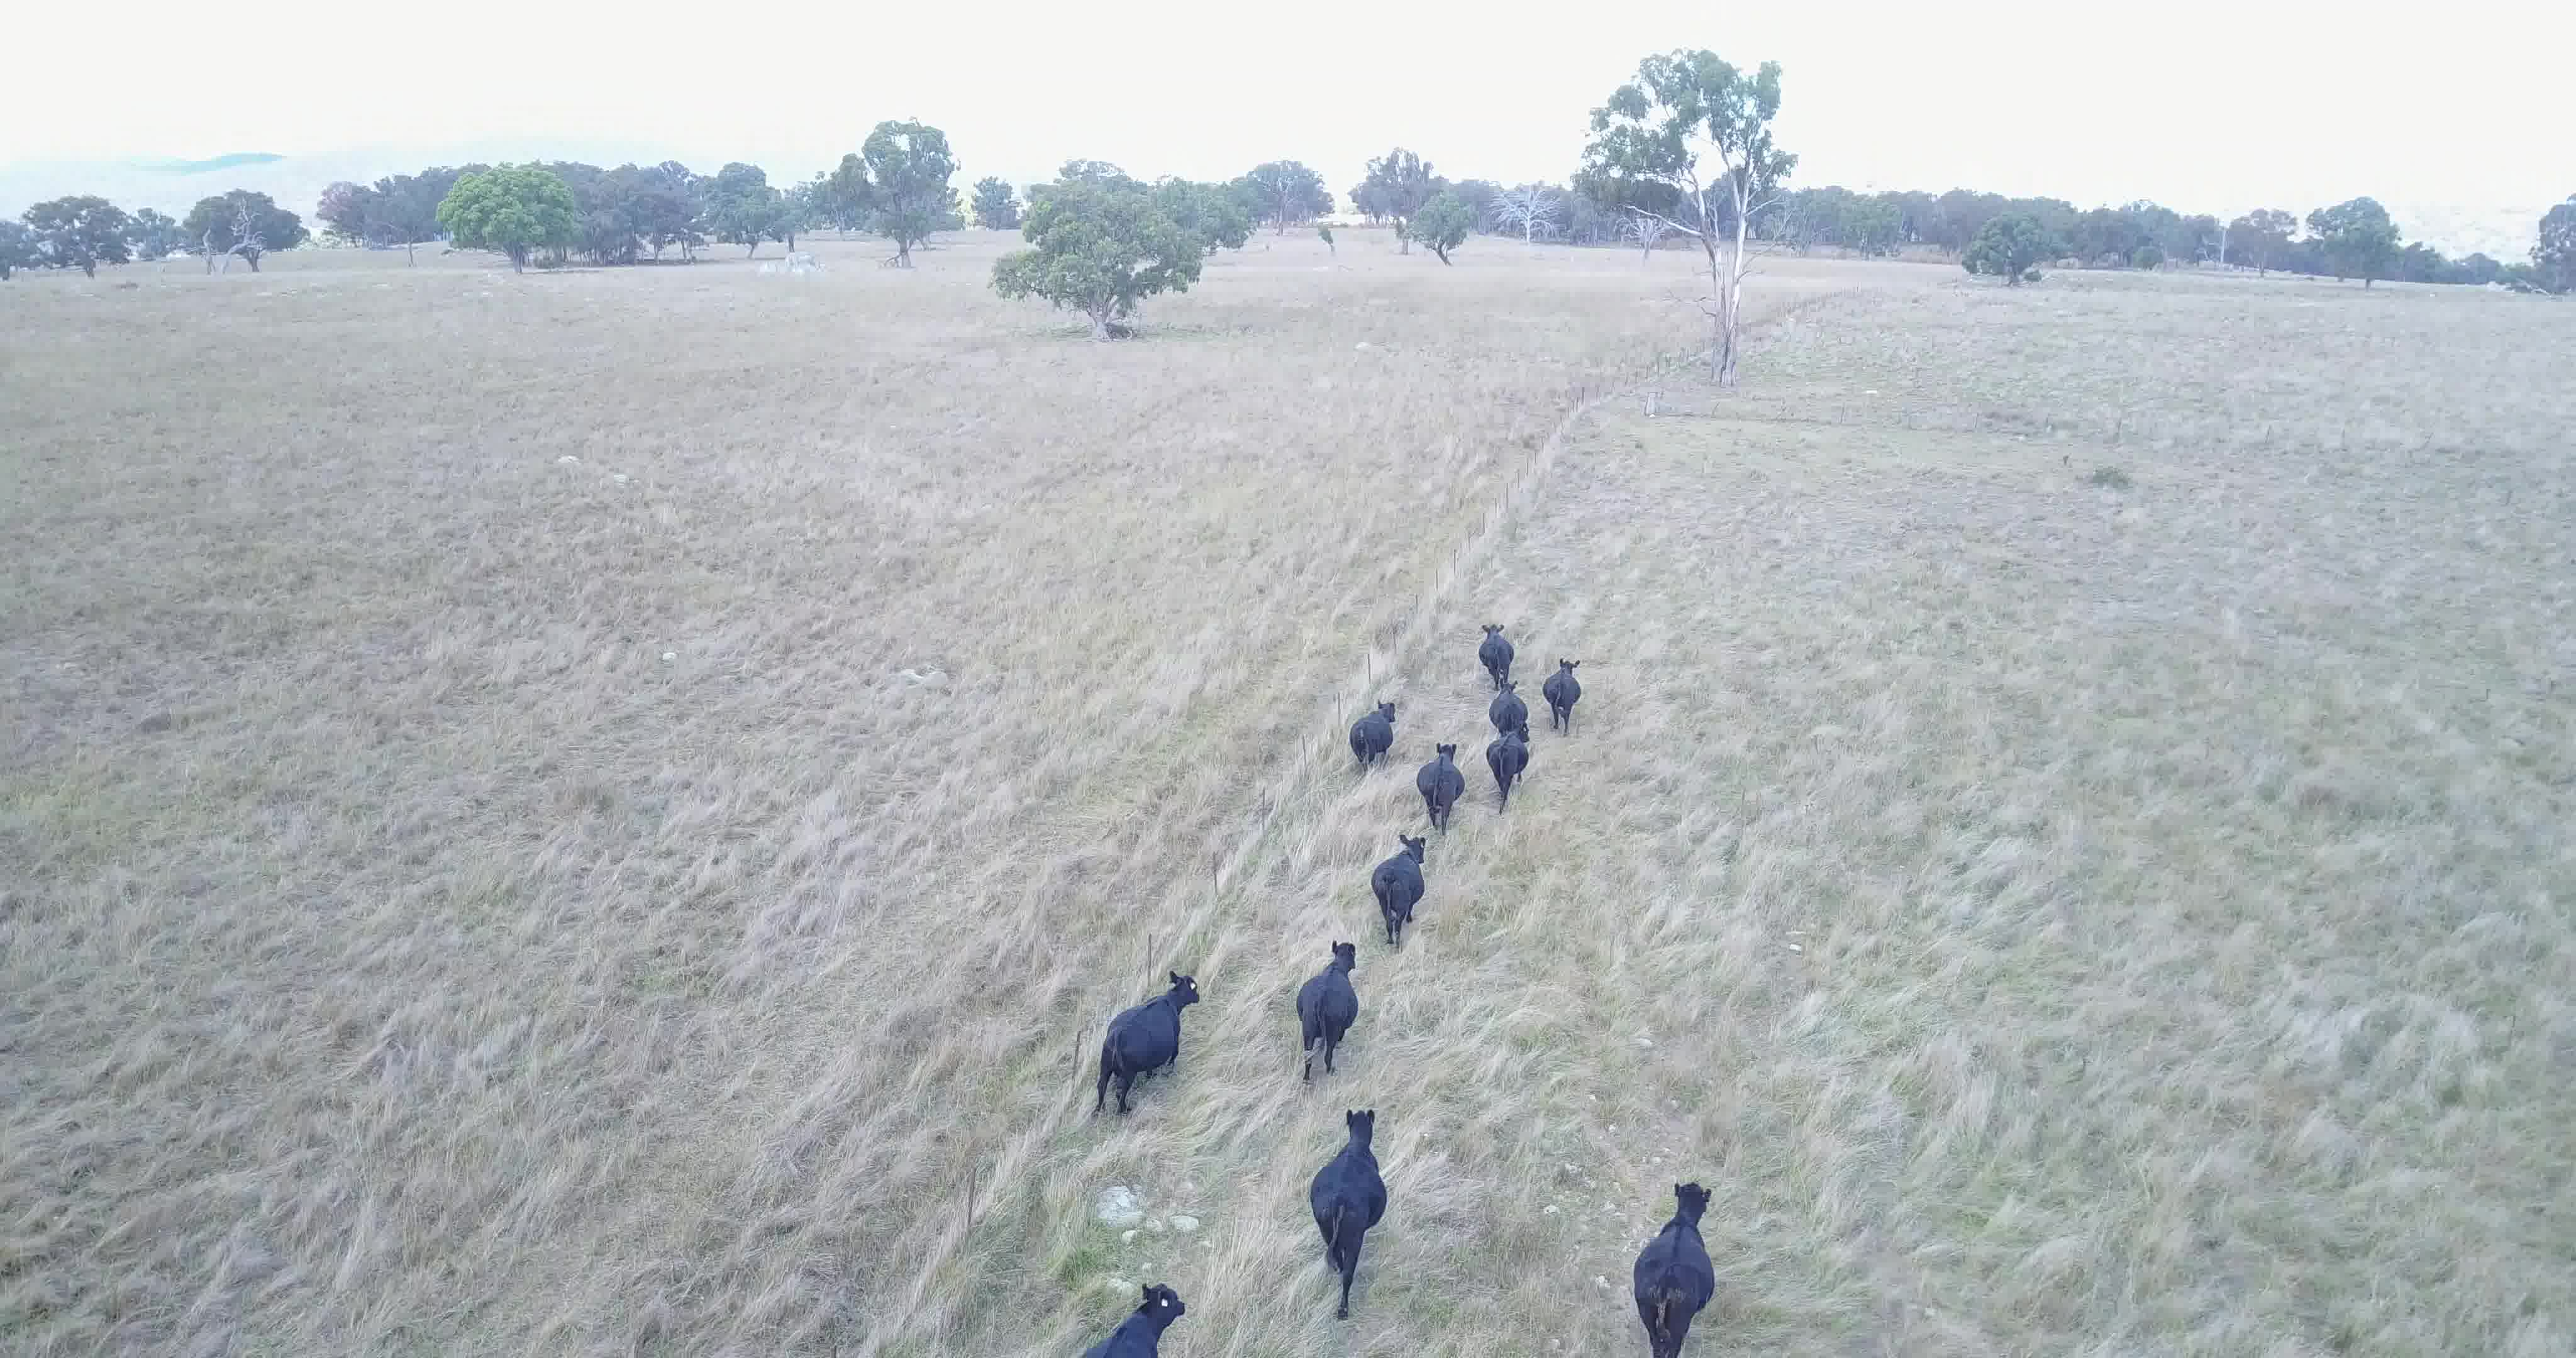cattle: (1305, 1101, 1394, 1341), (1090, 968, 1205, 1121), (1290, 939, 1366, 1084), (1055, 1281, 1196, 1358), (1368, 830, 1431, 947), (1414, 739, 1469, 835), (1484, 726, 1533, 820), (1349, 699, 1399, 782), (1542, 656, 1583, 738), (1475, 622, 1518, 682), (1486, 682, 1532, 736)
